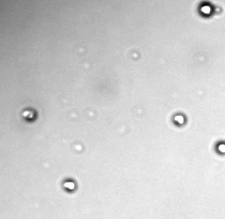Dead Cell: (21, 107, 37, 122)
Living Cell: (198, 1, 214, 18), (62, 179, 77, 192), (172, 113, 187, 126), (215, 140, 225, 154)
